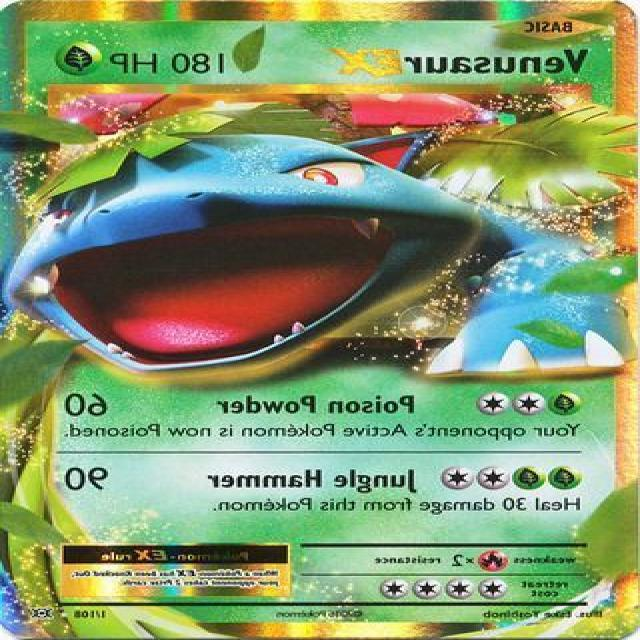Venusaur: (0, 92, 612, 376)
